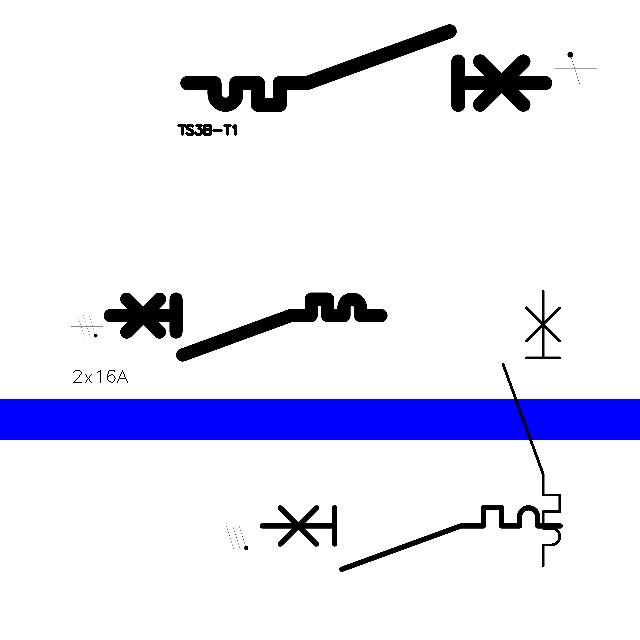interruptor_termomagnetico: (178, 22, 554, 114), (254, 500, 567, 576), (496, 284, 567, 573), (103, 292, 388, 361)
